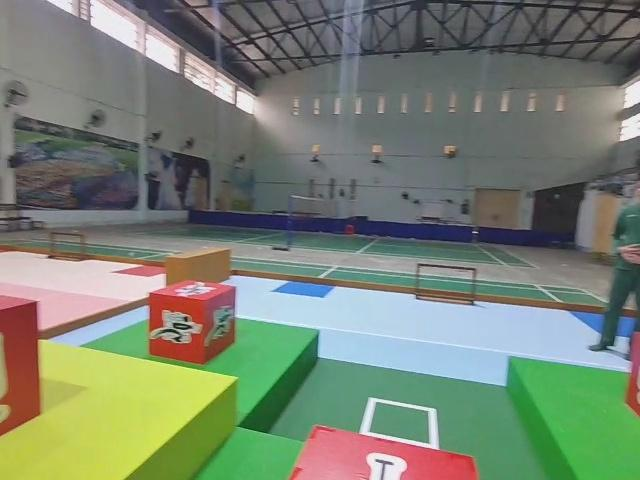R1: (147, 278, 238, 364)
